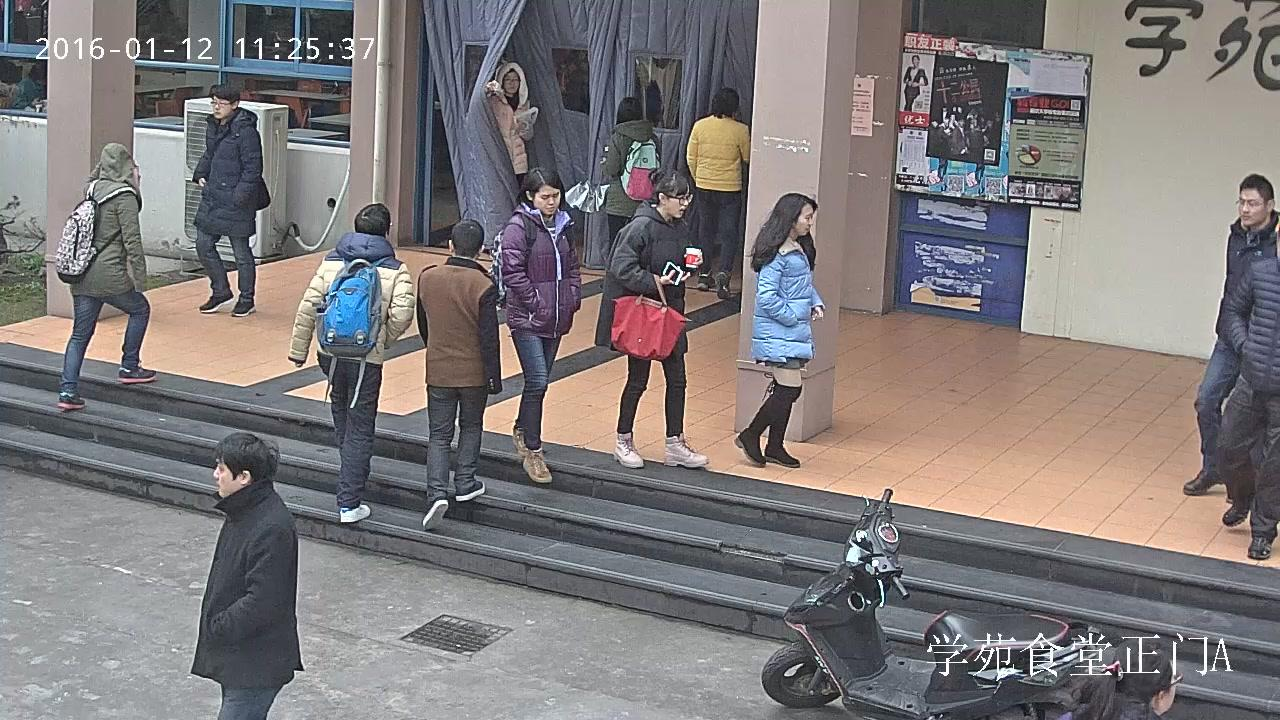person: (288, 203, 415, 523), (595, 168, 708, 468), (189, 431, 304, 718), (1183, 174, 1280, 495), (414, 218, 502, 529), (491, 168, 578, 482), (53, 142, 154, 409), (733, 193, 824, 468), (1218, 257, 1280, 559), (192, 84, 270, 316), (686, 87, 751, 298), (598, 97, 662, 294), (480, 62, 538, 189), (9, 60, 47, 110), (902, 55, 928, 112)
